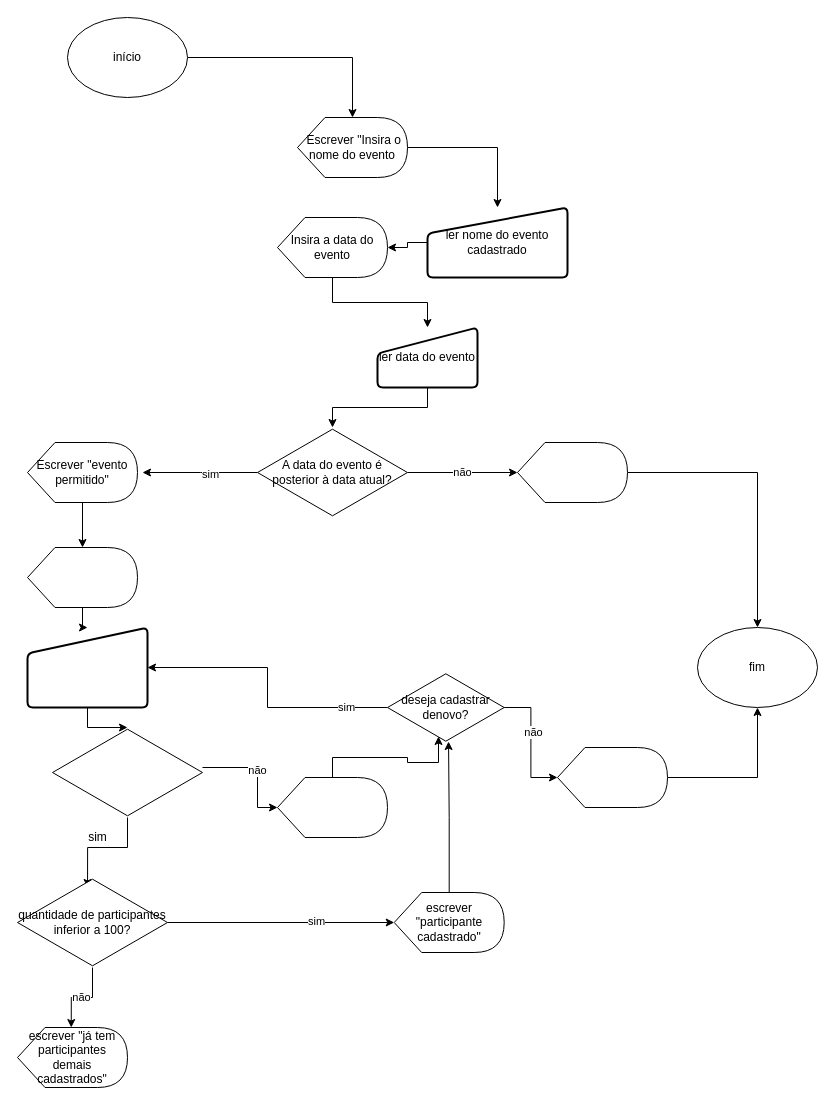
The diagram is 835 pixels wide and 1105 high, and some of its shapes have lost their labels. The centre of each missing label's shape, as x and y in pixels:
Escrever "evento não permitido": (x=572, y=472)
Escrever "participante deve ser maior de 18 anos": (x=332, y=807)
idade do participante é maior que 18?: (x=127, y=772)
Informe o nome do participante, idade e se é palestrante: (x=82, y=577)
ler nome do participante, idade e se é palestrante: (x=87, y=667)
mostrar lista de participantes e palestrantes: (x=612, y=777)
